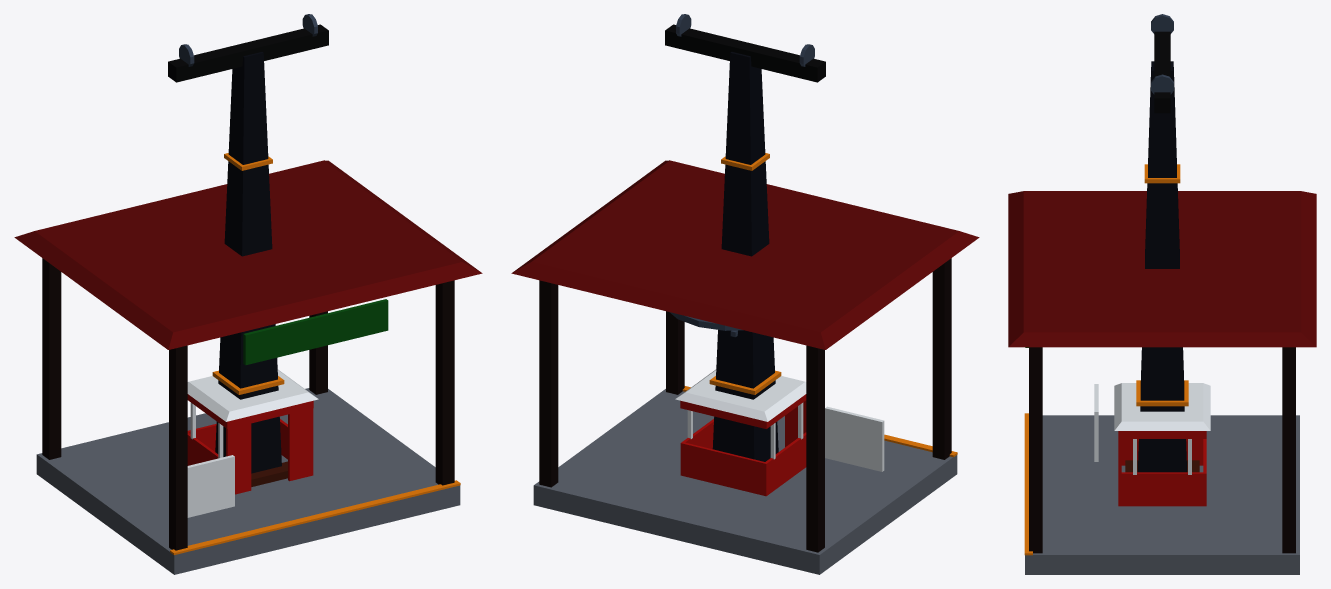
The model's file is cablecar_kit.glb.
3 renders of one model, left to right at view 1: azimuth 30°, elevation 25°; view 2: azimuth 150°, elevation 25°; view 3: azimuth 270°, elevation 25°, orthographic.
Parts seen in each view (by area): view 1: SM_CC_Station, SM_CC_Pylon, SM_CC_Gondola; view 2: SM_CC_Station, SM_CC_Pylon, SM_CC_Gondola; view 3: SM_CC_Station, SM_CC_Pylon, SM_CC_Gondola.
Boxes of the visible parts, x1,y1,x2,y2 form: SM_CC_Station: [14, 160, 482, 574]; SM_CC_Pylon: [168, 14, 328, 490]; SM_CC_Gondola: [187, 369, 318, 494]; SM_CC_Station: [511, 160, 979, 574]; SM_CC_Pylon: [665, 14, 825, 461]; SM_CC_Gondola: [675, 330, 806, 496]; SM_CC_Station: [1008, 191, 1316, 574]; SM_CC_Pylon: [1136, 14, 1188, 472]; SM_CC_Gondola: [1114, 383, 1210, 506].
Bounding box in the file's own units: 6.6 × 9.22 × 5.6.
Materials: 3 (3 with a texture image).
